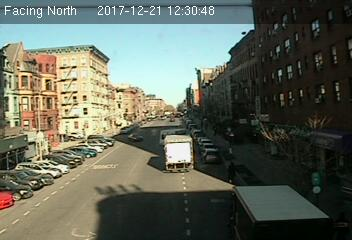car: (201, 148, 221, 162)
truck: (163, 134, 195, 171)
ups: (228, 185, 333, 240)
